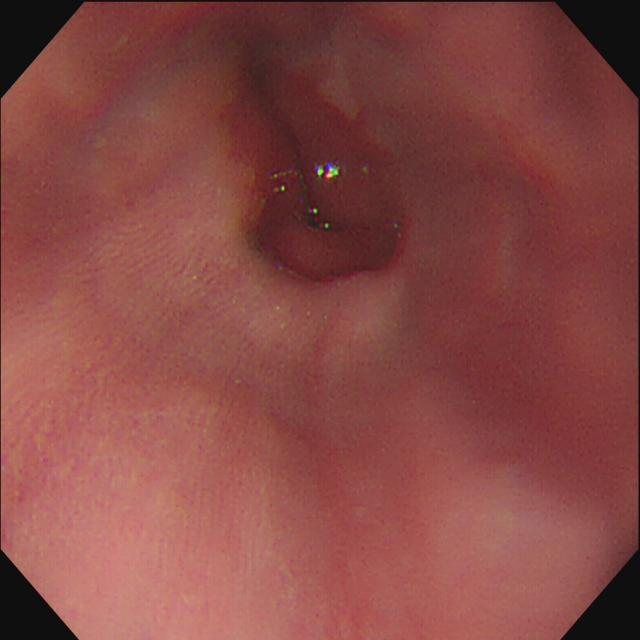I: (228, 100, 411, 289)
U: (315, 165, 341, 180)
